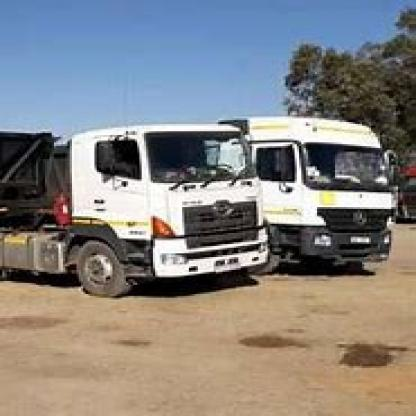dump_truck: (16, 85, 263, 311), (256, 103, 414, 283)
